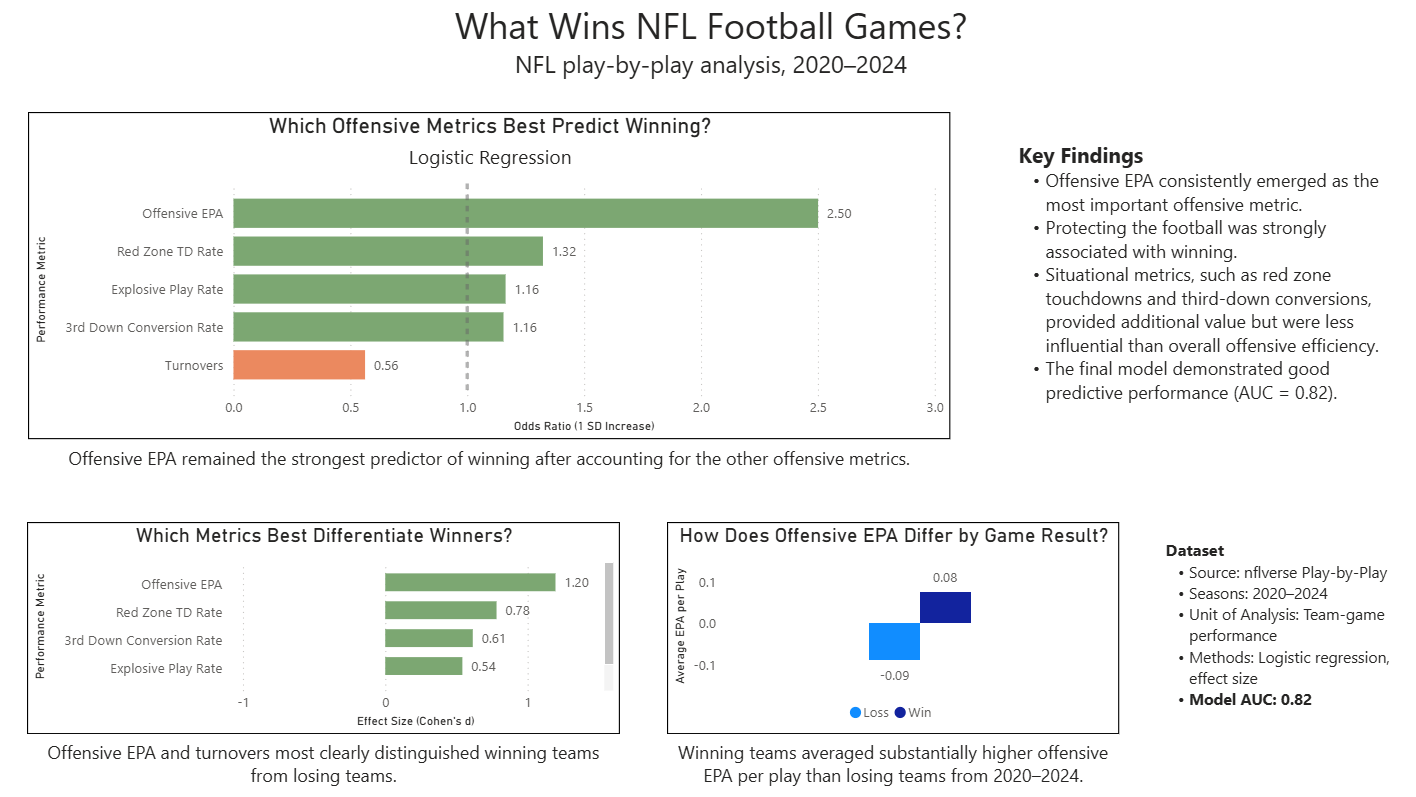

What the dashboard file says about the page in this screenshot:
{"tool":"powerbi","page":{"name":"Page 1","canvas":[1280,720],"ordinal":0},"visuals":[{"type":"clusteredColumnChart","title":"How Does Offensive EPA Differ by Game Result?","fields":{"Y":["Avg(model_data.offensive_epa)"],"Series":["model_data.Result"]},"box":[601,473,405,190],"z":0},{"type":"textbox","box":[601,663,405,57],"z":1000},{"type":"textbox","box":[400,0,480,94],"z":2000},{"type":"clusteredBarChart","title":"Which Offensive Metrics Best Predict Winning?","fields":{"Category":["model_results.metric"],"Y":["Avg(model_results.odds_ratio)"]},"box":[29,106,826,293],"z":3000},{"type":"textbox","box":[29,399,826,36],"z":4000},{"type":"clusteredBarChart","title":"Which Metrics Best Differentiate Winners?","fields":{"Category":["effect_sizes.Metric.1"],"Y":["Sum(effect_sizes.Cohens_d)"]},"box":[28,473,531,190],"z":5000},{"type":"textbox","box":[28,663,531,57],"z":6000},{"type":"textbox","box":[1042,483,229,170],"z":7000},{"type":"textbox","box":[911,126,343,281],"z":8000}]}

Visuals, with their boxes in screenshot pixels (x1, y1, x2, y2), scaled from the page's 1280x720 canvas onto the 1416x797 screenshot:
"How Does Offensive EPA Differ by Game Result?" clusteredColumnChart: left=665, top=524, right=1113, bottom=734
textbox: left=665, top=734, right=1113, bottom=796
textbox: left=442, top=0, right=974, bottom=104
"Which Offensive Metrics Best Predict Winning?" clusteredBarChart: left=32, top=117, right=946, bottom=442
textbox: left=32, top=442, right=946, bottom=482
"Which Metrics Best Differentiate Winners?" clusteredBarChart: left=31, top=524, right=618, bottom=734
textbox: left=31, top=734, right=618, bottom=796
textbox: left=1153, top=535, right=1406, bottom=723
textbox: left=1008, top=139, right=1387, bottom=451
